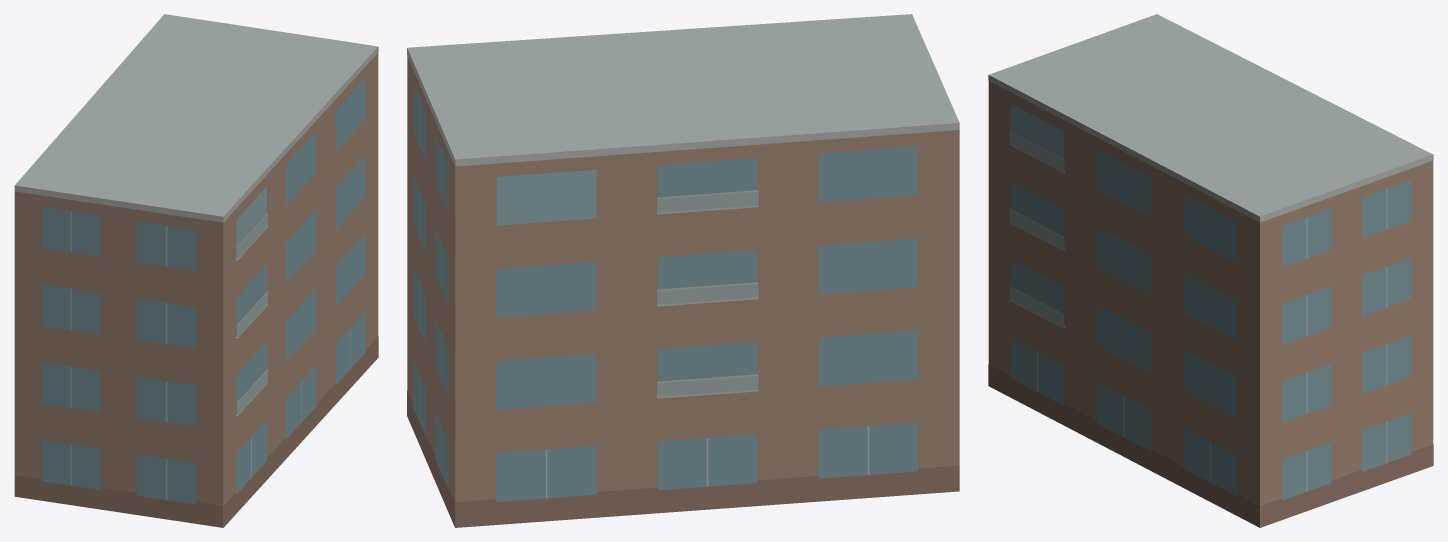
Rendered from survey-upis-32840725.glb.
The picture shows the model from 3 angles, left to right: view 1: azimuth 30°, elevation 25°; view 2: azimuth 150°, elevation 25°; view 3: azimuth 270°, elevation 25°; orthographic projection. The views are drawn at different scales.
Parts seen in each view (by area): view 1: survey-upis-32840725.tmp; view 2: survey-upis-32840725.tmp; view 3: survey-upis-32840725.tmp.
Part boxes in pixels (x1,y1,x2,y2): survey-upis-32840725.tmp: (14,14,378,527); survey-upis-32840725.tmp: (407,14,959,527); survey-upis-32840725.tmp: (988,14,1433,527).
Size of the model in its own units: 17.89 by 12.8 by 16.6.
